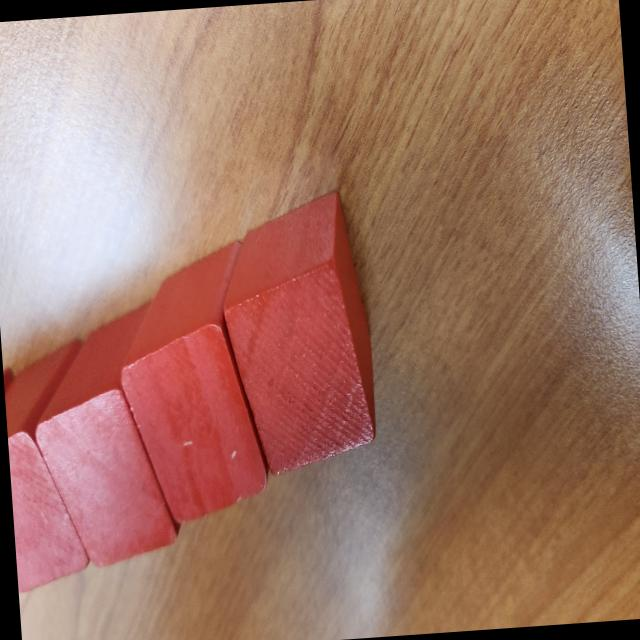red: (214, 188, 384, 483), (110, 239, 270, 526), (25, 298, 179, 572), (1, 340, 102, 592)
